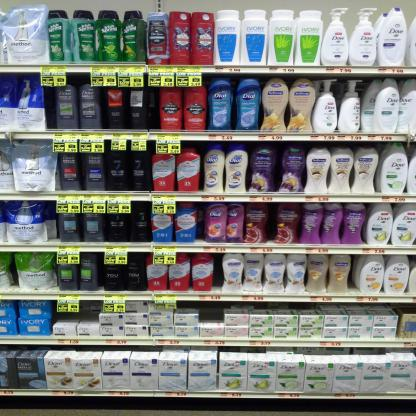Void: (196, 305, 230, 325), (75, 302, 98, 326)
